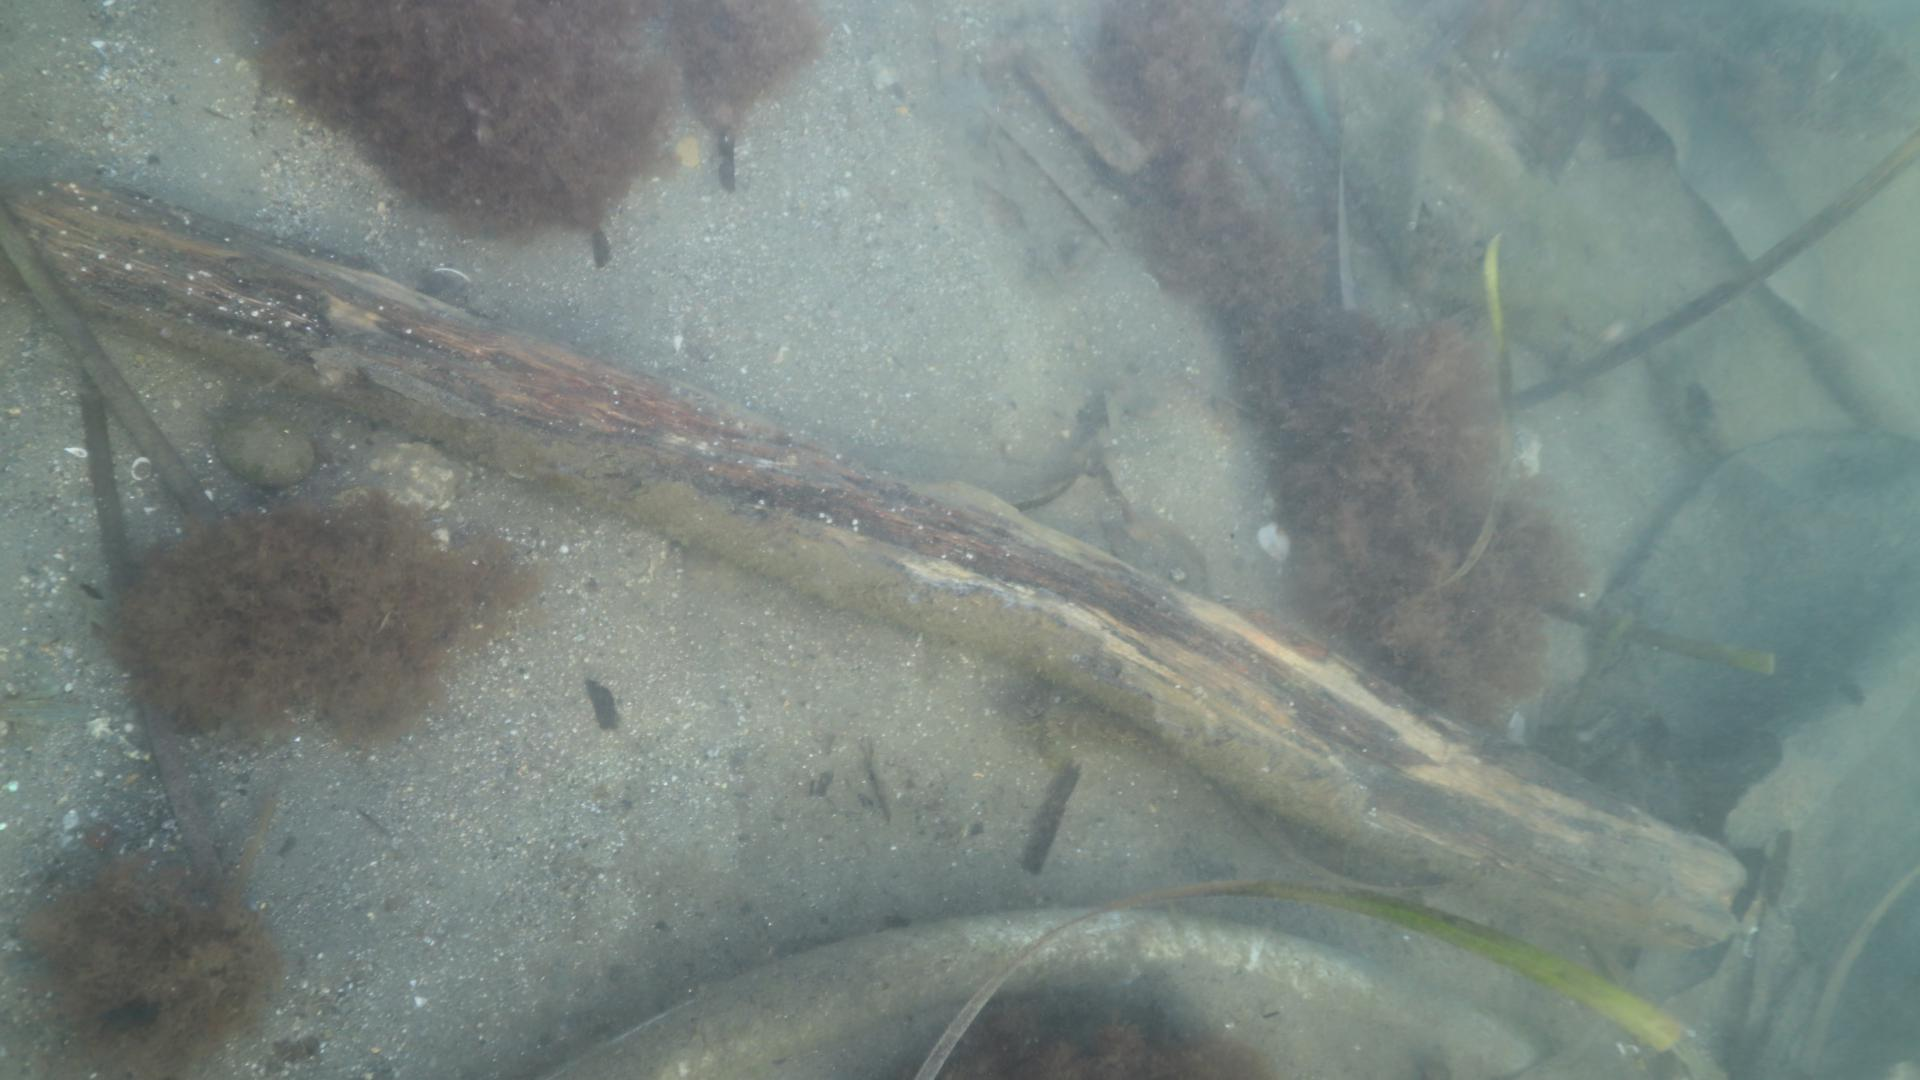wood: (0, 173, 1753, 951)
